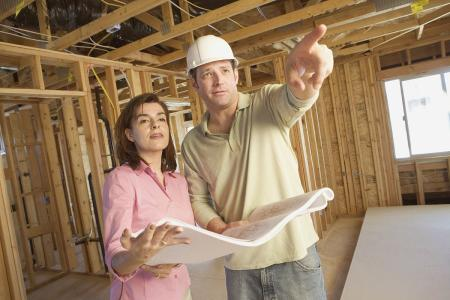hard-hat: (186, 33, 236, 75)
person: (180, 22, 334, 299), (101, 91, 195, 299)
